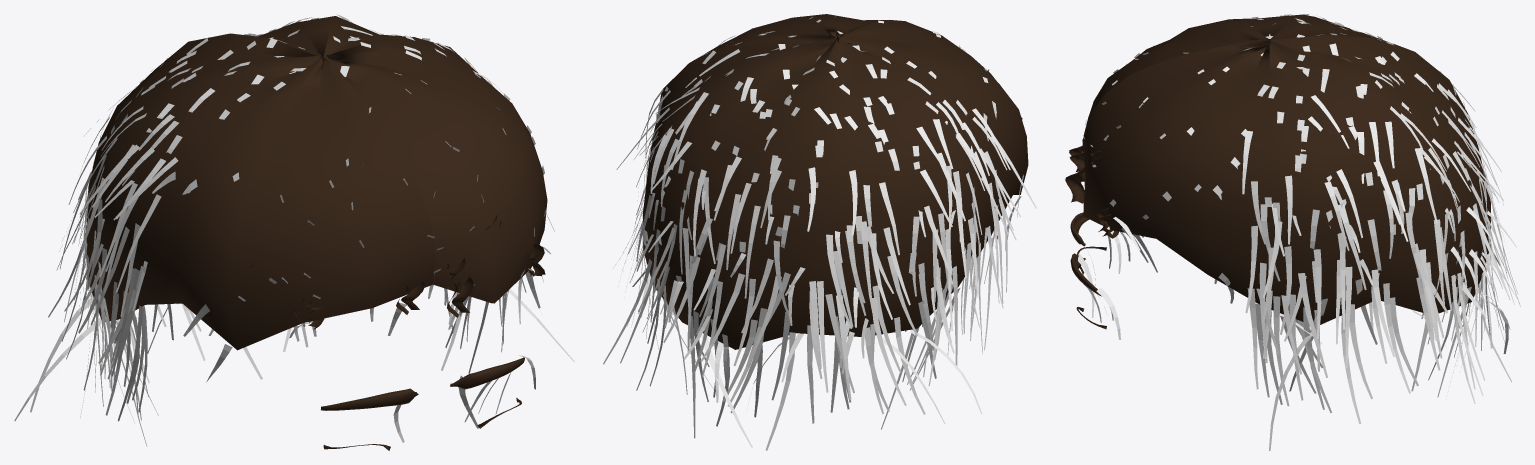
The model's file is hair-runekeeper-short.glb.
The picture shows the model from 3 angles, left to right: view 1: azimuth 30°, elevation 25°; view 2: azimuth 150°, elevation 25°; view 3: azimuth 270°, elevation 25°; orthographic projection. The views are drawn at different scales.
Visible parts, largest first — view 1: hair-runekeeper-short_1, hair__strands; view 2: hair-runekeeper-short_1, hair__strands; view 3: hair-runekeeper-short_1, hair__strands.
Boxes of the visible parts, x1,y1,x2,y2 form: hair-runekeeper-short_1: [86, 16, 547, 450]; hair__strands: [14, 14, 574, 446]; hair-runekeeper-short_1: [643, 14, 1028, 349]; hair__strands: [603, 16, 1036, 450]; hair-runekeeper-short_1: [1065, 14, 1490, 329]; hair__strands: [1078, 14, 1520, 450].
Bounding box in the file's own units: 0.2557 × 0.2039 × 0.2433.
